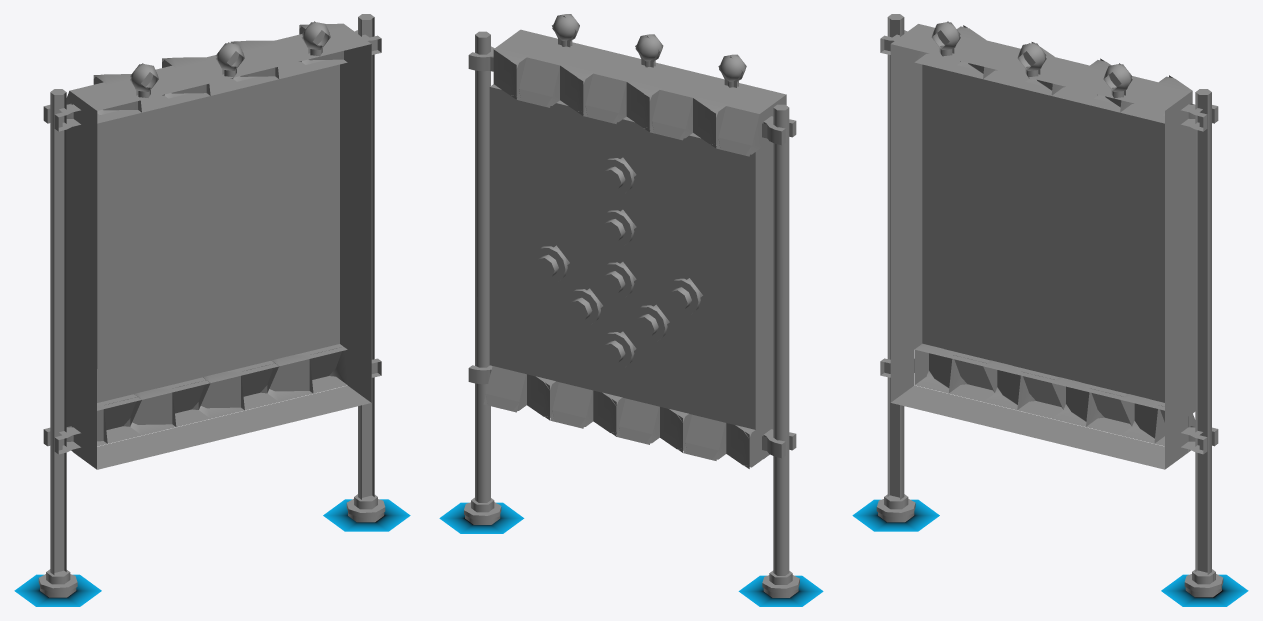
The model's file is Standard_Barrier_Mid.fbx.
3 views of the same model, side by side, from view 1: azimuth 30°, elevation 25°; view 2: azimuth 150°, elevation 25°; view 3: azimuth 330°, elevation 25° (orthographic). The views are drawn at different scales.
Parts seen in each view (by area): view 1: Barrier_Mid, Barrier_Mid_LOD, Barrier_Mid_Shadow; view 2: Barrier_Mid_LOD, Barrier_Mid, Barrier_Mid_Shadow; view 3: Barrier_Mid, Barrier_Mid_LOD, Barrier_Mid_Shadow.
Part boxes in pixels (x1,y1,x2,y2): Barrier_Mid: [38, 14, 385, 597]; Barrier_Mid_LOD: [47, 19, 372, 572]; Barrier_Mid_Shadow: [14, 499, 410, 606]; Barrier_Mid_LOD: [483, 16, 767, 468]; Barrier_Mid: [464, 14, 799, 597]; Barrier_Mid_Shadow: [439, 502, 823, 606]; Barrier_Mid: [876, 14, 1223, 597]; Barrier_Mid_LOD: [890, 19, 1221, 588]; Barrier_Mid_Shadow: [852, 499, 1248, 606].
Size of the model in its own units: 2.7 by 3.64 by 0.5699.
